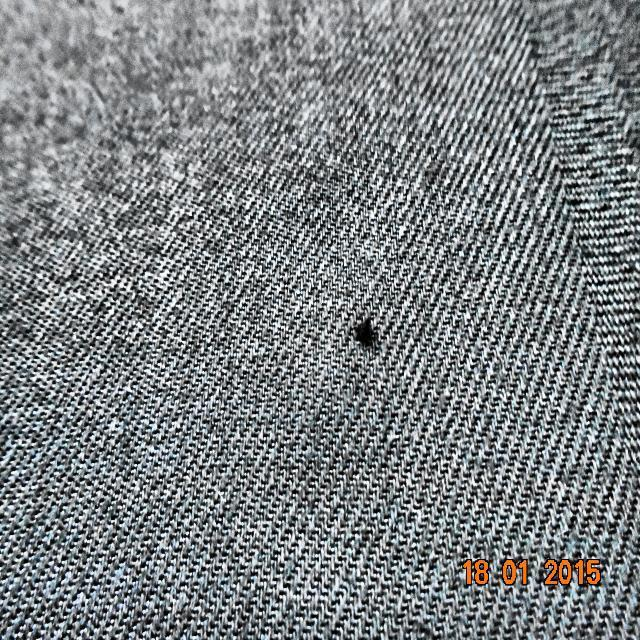cut: (346, 299, 392, 361)
